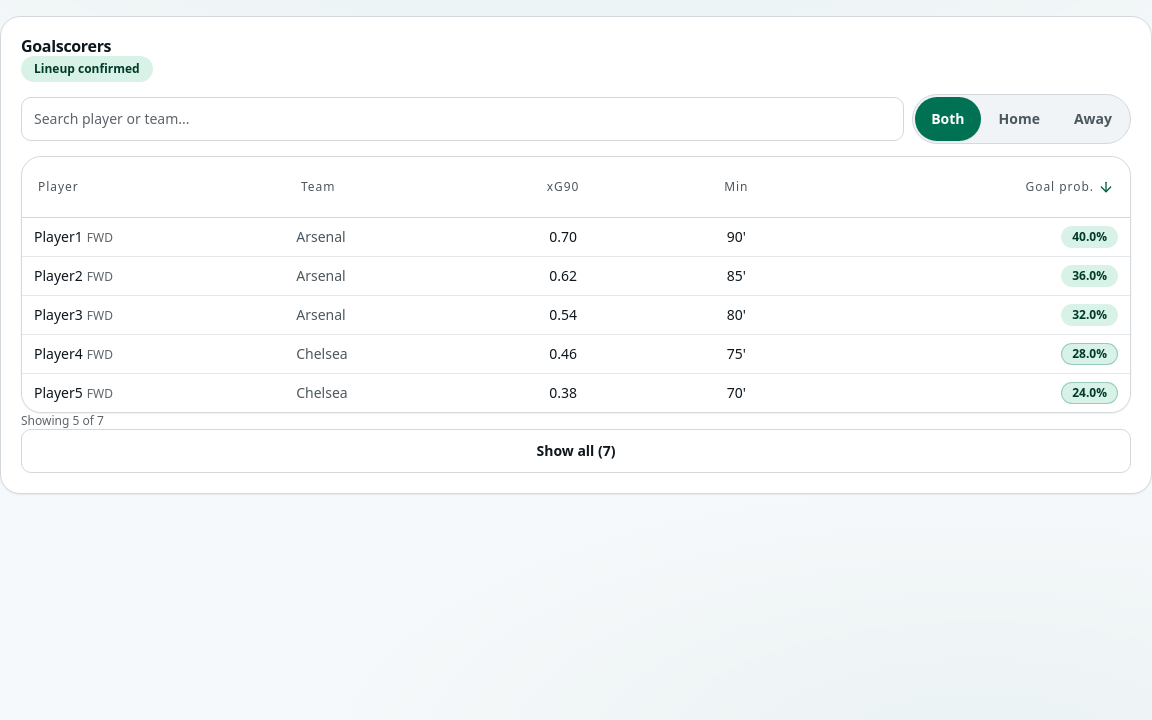
Test: ScorerPanel › filters by team
The width and height of the screenshot is (1152, 720).
Click the button "Away": (1093, 119) left=1058, top=97, right=1128, bottom=141
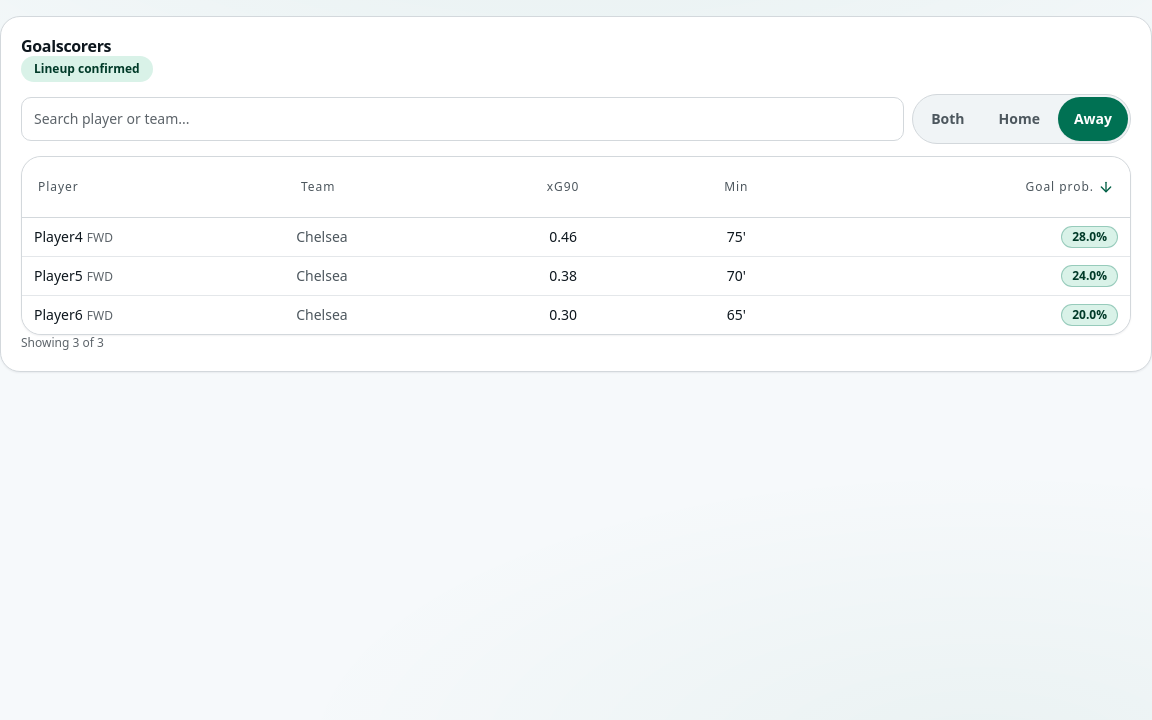
Check: the number of rows is 4, box left=22, top=157, right=1130, bottom=218; left=22, top=218, right=1130, bottom=257; left=22, top=257, right=1130, bottom=296; left=22, top=296, right=1130, bottom=334
Check: the text "Player1" is gone
